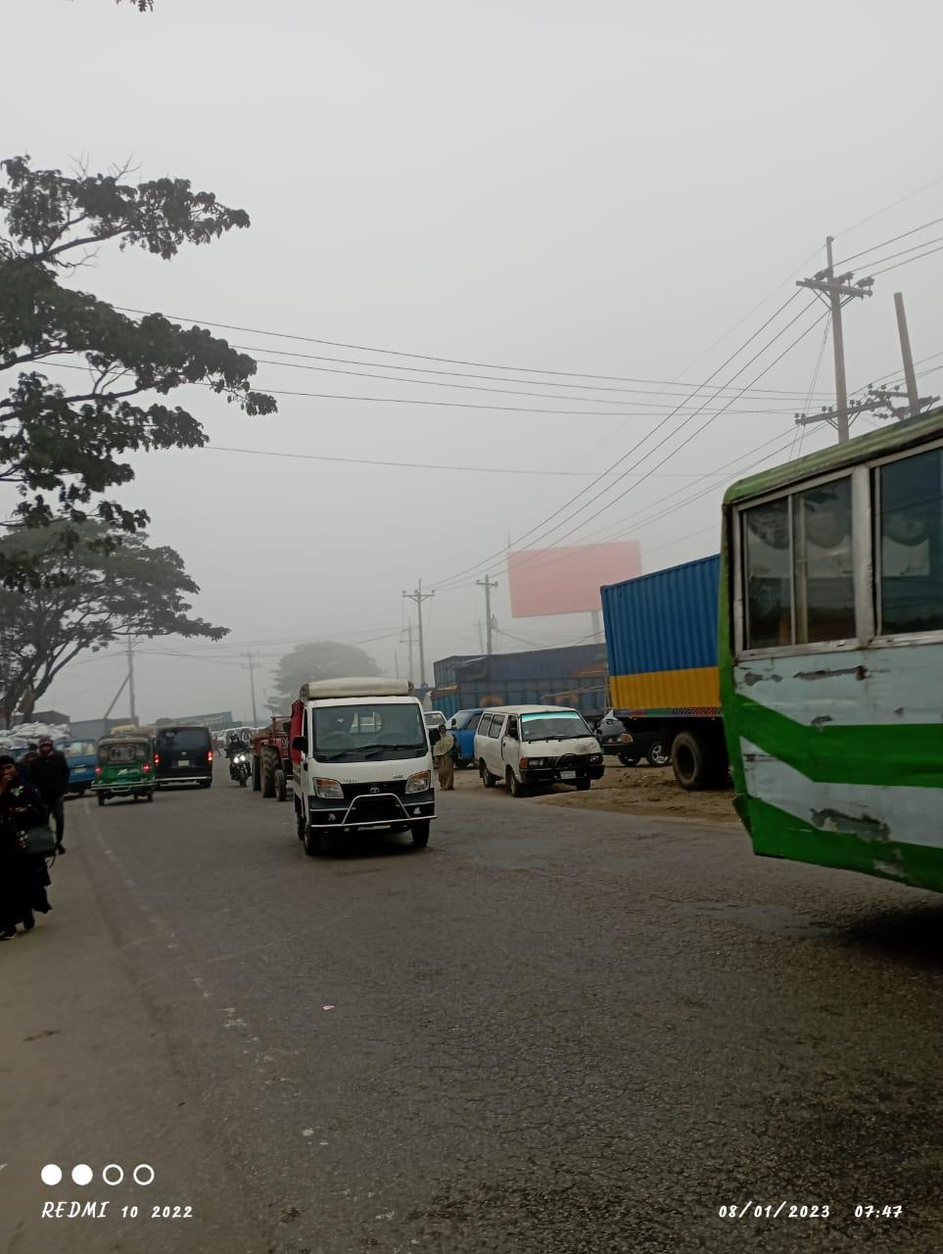Bike: (224, 726, 259, 795)
Bus: (715, 411, 943, 898)
Car: (276, 665, 448, 861), (474, 698, 605, 799), (145, 713, 224, 798)
Truck: (582, 554, 742, 787)
